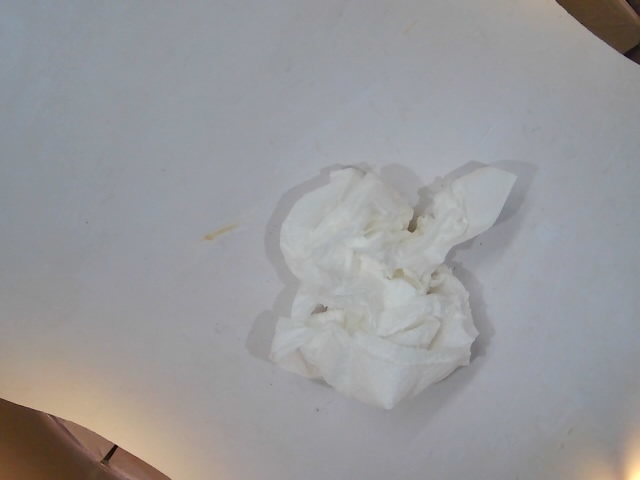tissue: (250, 156, 519, 436)
